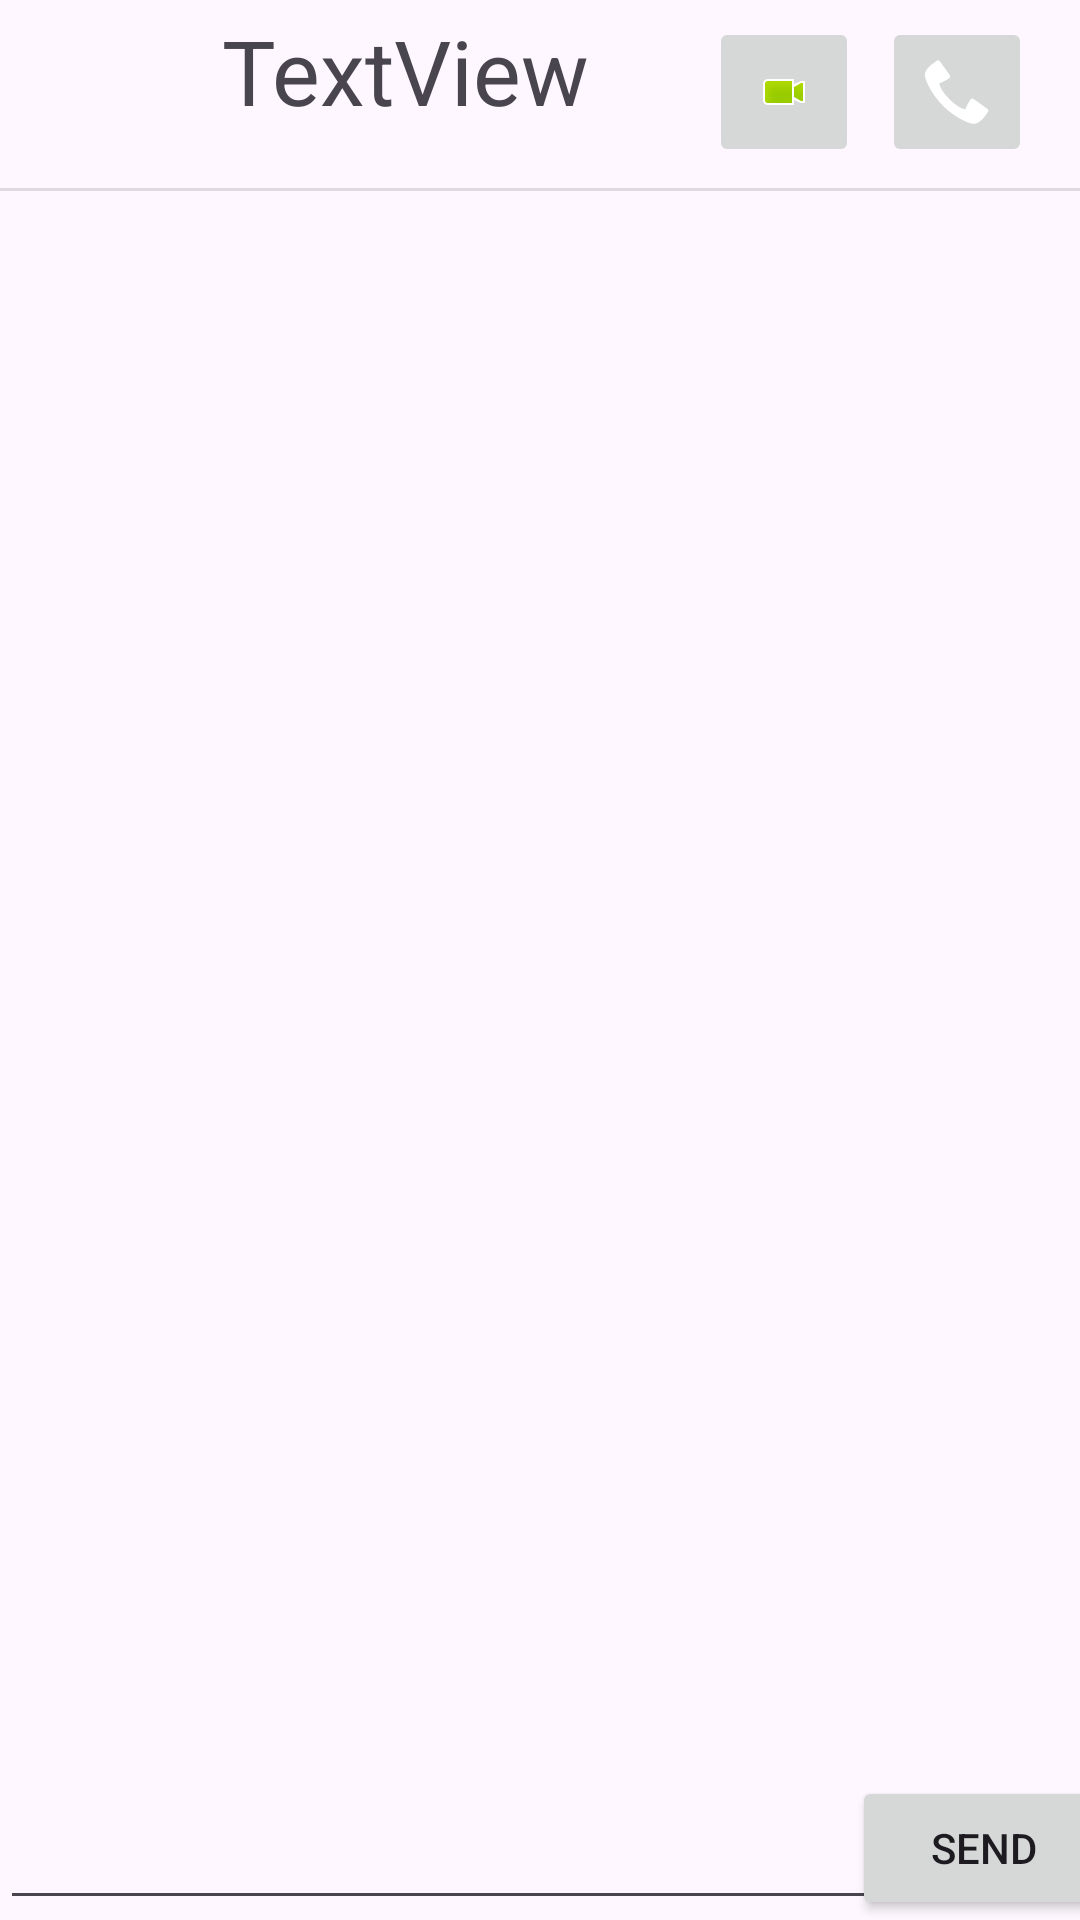

Icons on this 1080px x 1920px Android screen, each with its box as (x1, y1, x2, y2):
phone call: (894, 35, 1020, 149)
presence video online: (721, 35, 847, 149)
